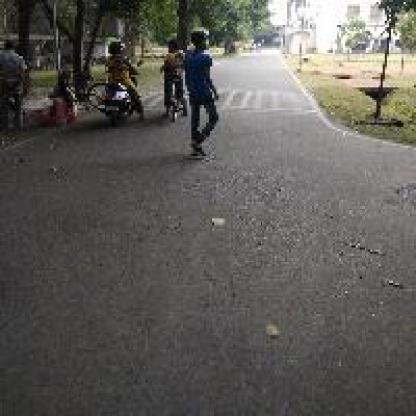Speed Bump: (217, 86, 315, 114)
